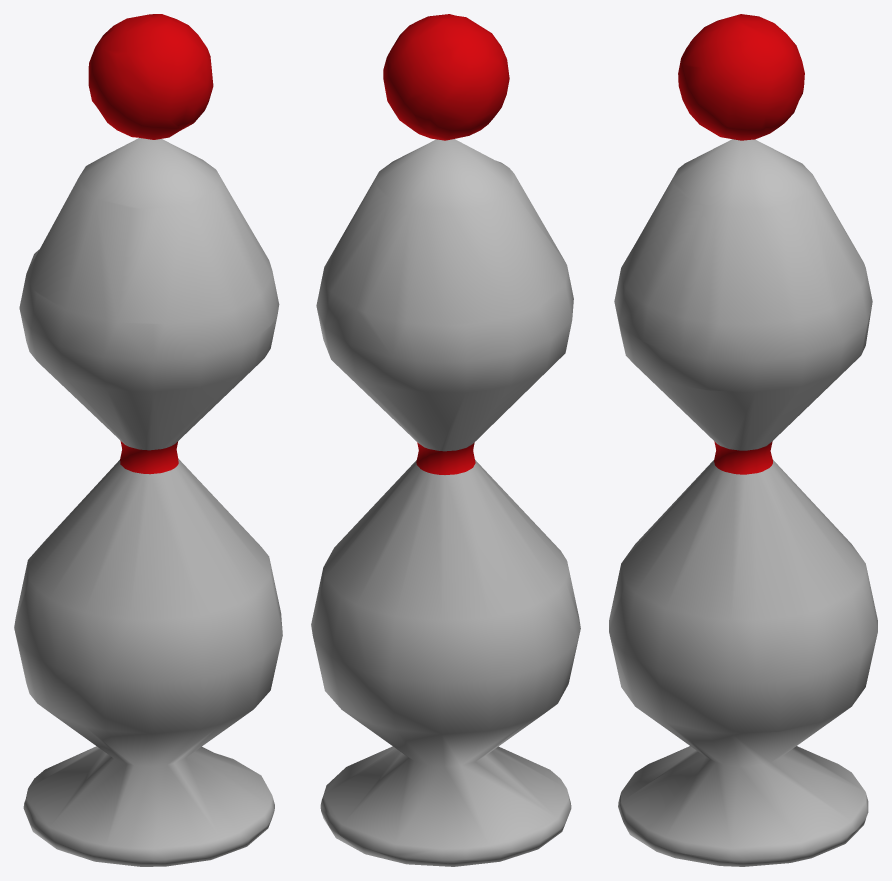
File: NouvelleTourelle.fbx
3 renders of one model, left to right at view 1: azimuth 30°, elevation 25°; view 2: azimuth 150°, elevation 25°; view 3: azimuth 270°, elevation 25°, orthographic.
Visible parts, largest first — view 1: Sphere; view 2: Sphere; view 3: Sphere.
Part boxes in pixels (x1,y1,x2,y2): Sphere: (14, 14, 282, 866); Sphere: (311, 14, 580, 866); Sphere: (609, 14, 877, 866).
Size of the model in its own units: 2.19 by 7.14 by 2.19.
